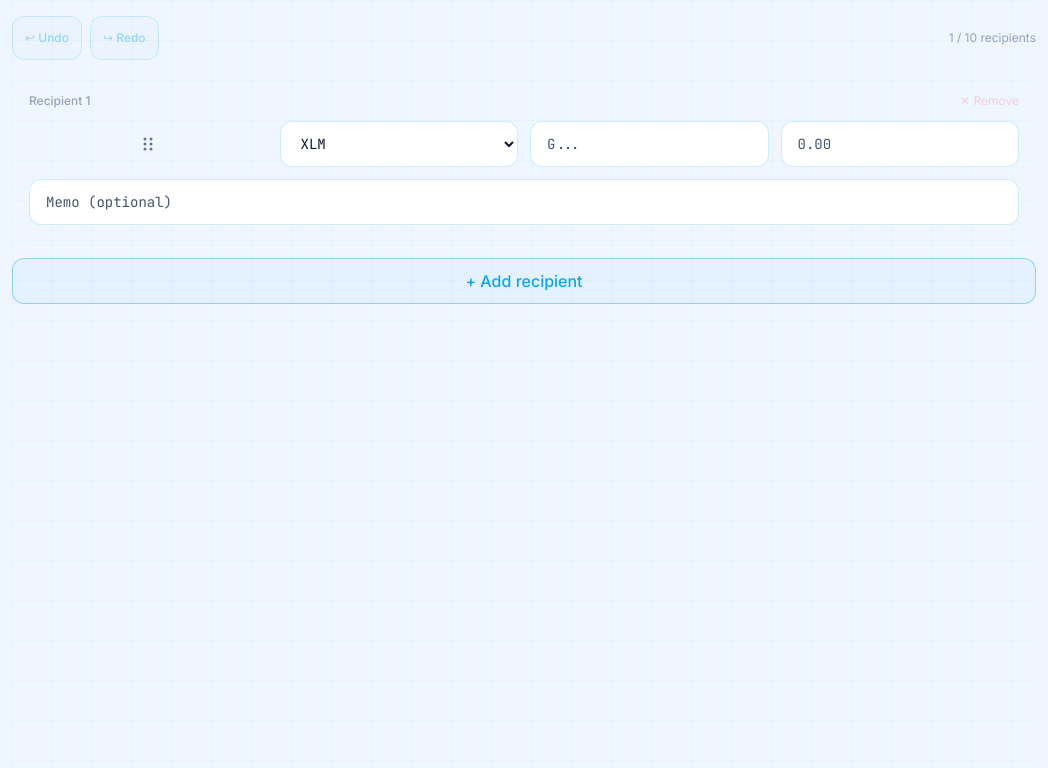
Test case: PaymentBuilder › supports undo and redo via keyboard shortcuts (Ctrl+Z / Ctrl+Shift+Z / Ctrl+Y)
Click the button "+ Add recipient".
click(524, 281)  # box [12,258,1036,304]
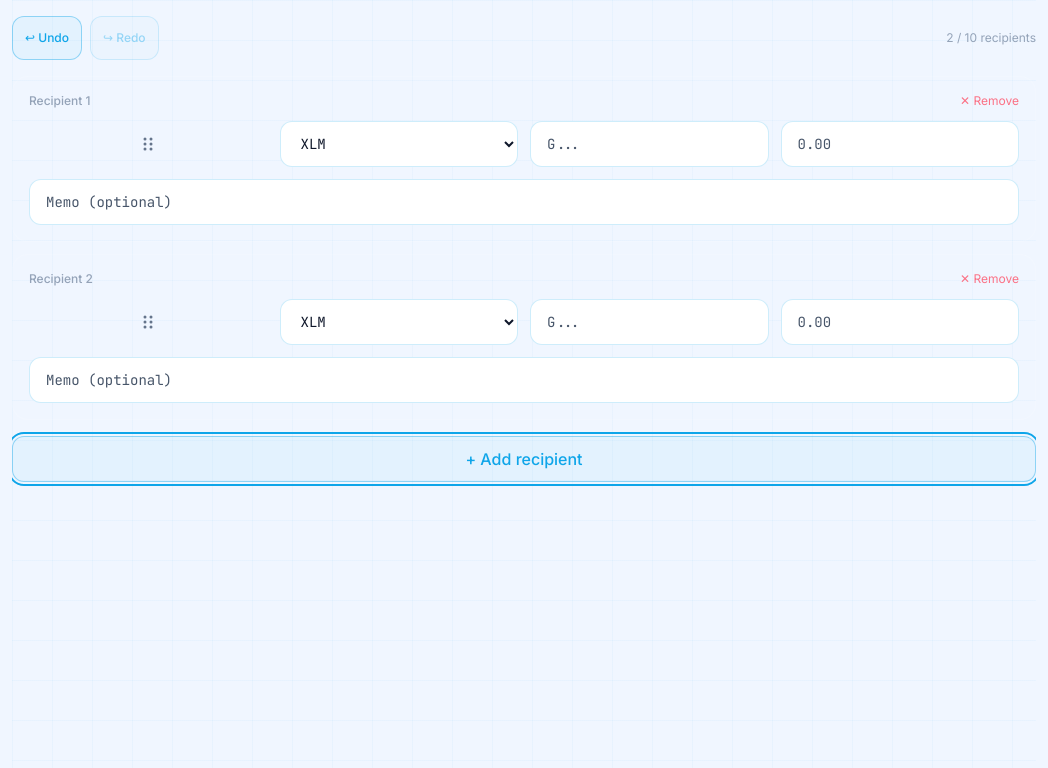
Expected: the text "Recipient 2" is shown, [29,271,93,287]
Note: Trigger Ctrl+Z
Press z
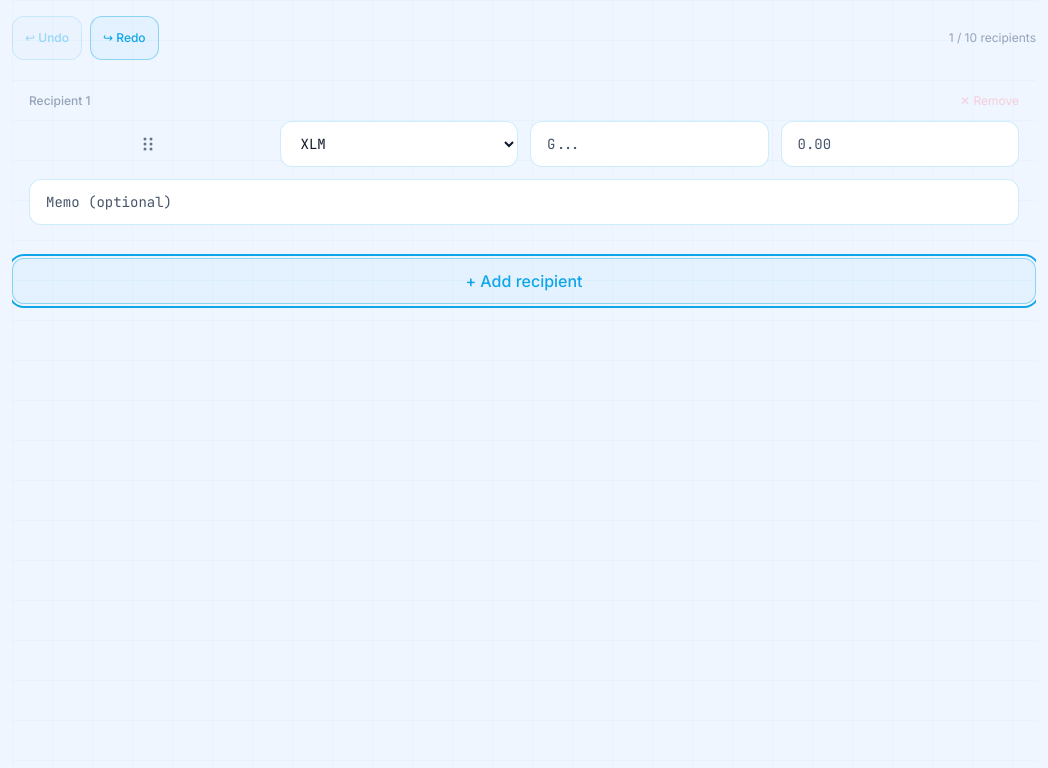
Expected: the text "Recipient 2" is gone
Note: Trigger Ctrl+Shift+Z (Redo)
Press z
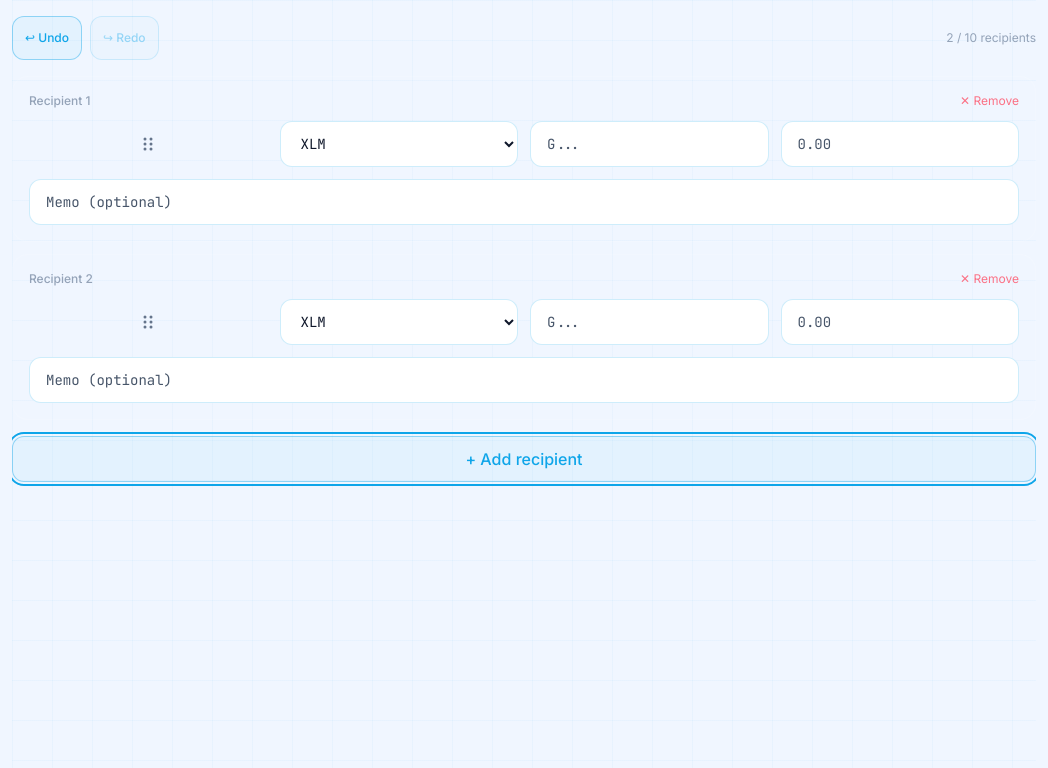
Expected: the text "Recipient 2" is shown, [29,271,93,287]
Note: Trigger Ctrl+Z again
Press z
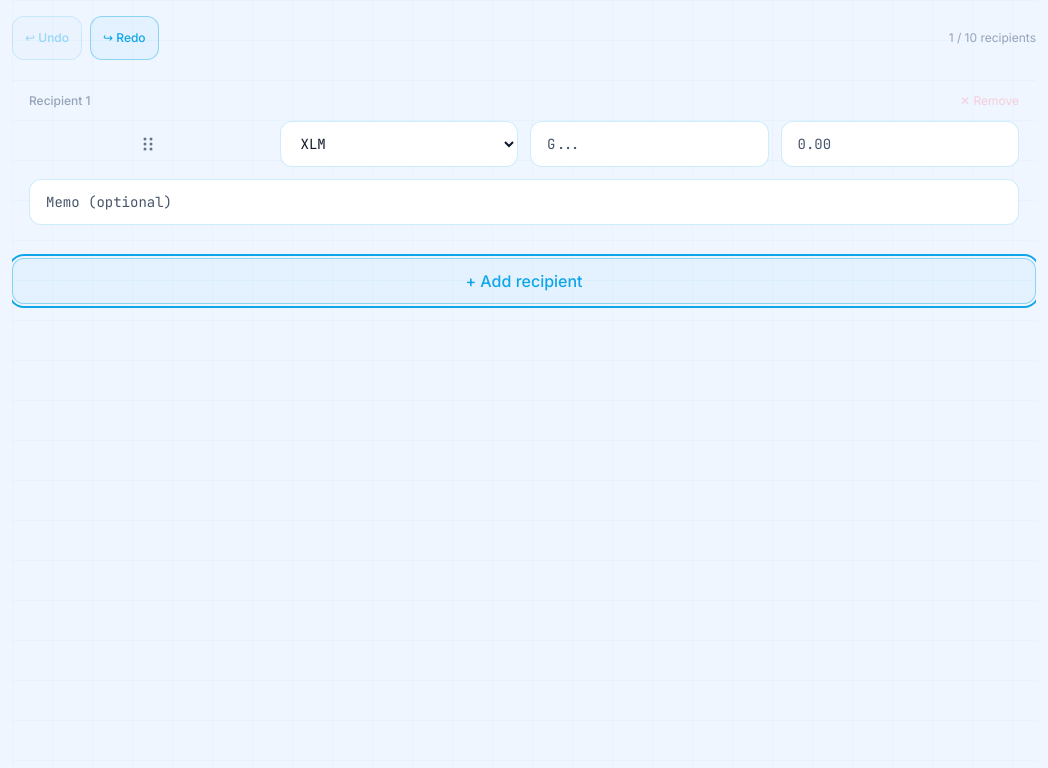
Expected: the text "Recipient 2" is gone
Note: Trigger Ctrl+Y (Redo)
Press y
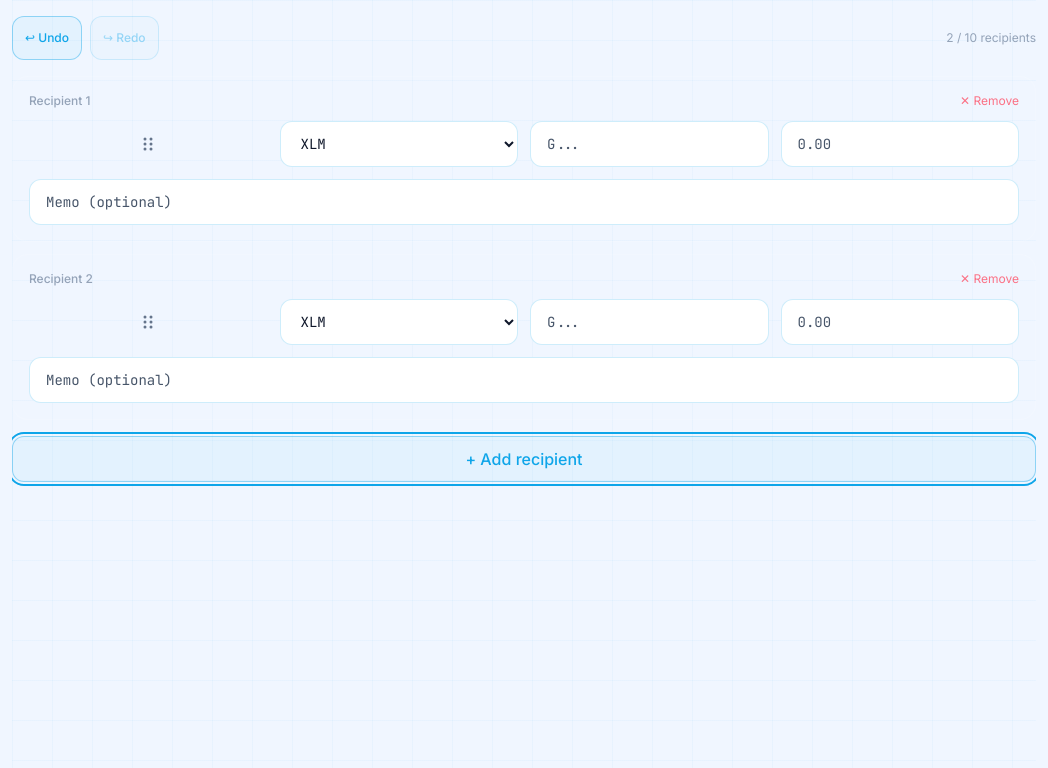
Expected: the text "Recipient 2" is shown, [29,271,93,287]
